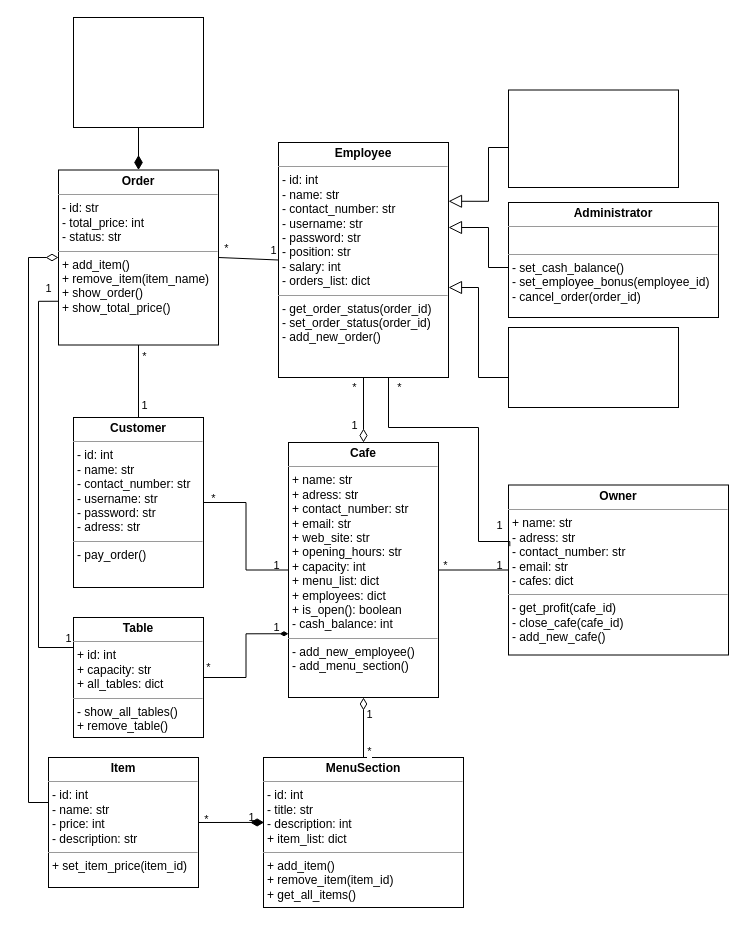
Some shapes in this 746 by 925 pixel diagram are drawn without their labels. The shapes that lost their labels are listed below. From the top down, each one's centre as x and y in pixels, then its label:
[138,72]: DeliveryInfo - order_id: int - contact_phone: str - adress: int - status: str
[593,138]: Waiter + serving_tables: dict + start_serve_table() + show_serving_table()
[593,367]: Cook - prepare_item(item_id)
